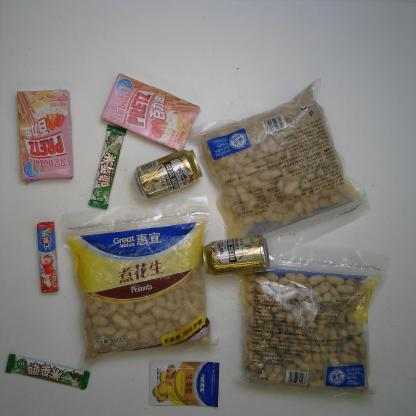Alcohol: (134, 148, 204, 202), (203, 234, 271, 277)
Candy: (36, 220, 59, 294)
Chocolate: (88, 124, 127, 210), (4, 354, 91, 390)
Dessert: (100, 71, 201, 152), (16, 88, 76, 185)
Dried Food: (186, 75, 373, 256), (61, 195, 223, 370), (233, 242, 391, 399)
Seasoner: (148, 359, 221, 409)
